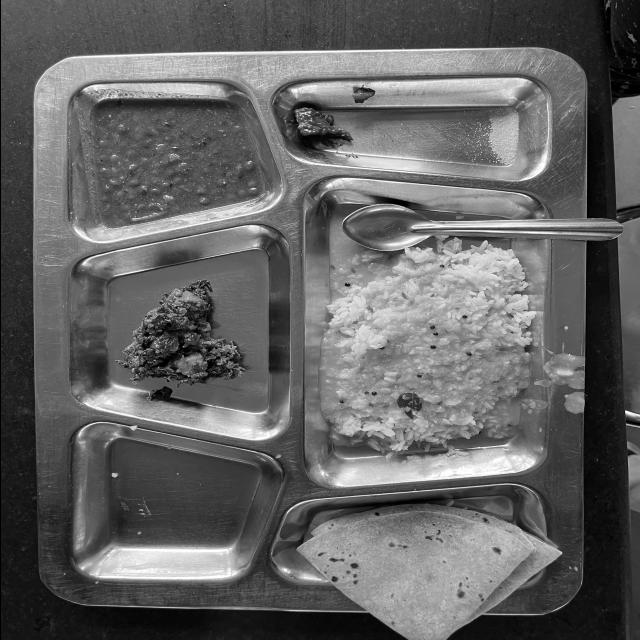100.4- Food Left: (49, 61, 574, 594)
